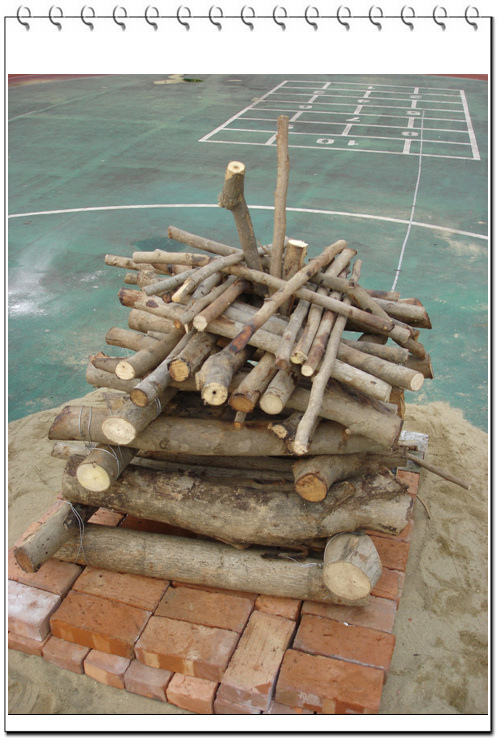wood_together: (111, 182, 419, 460)
